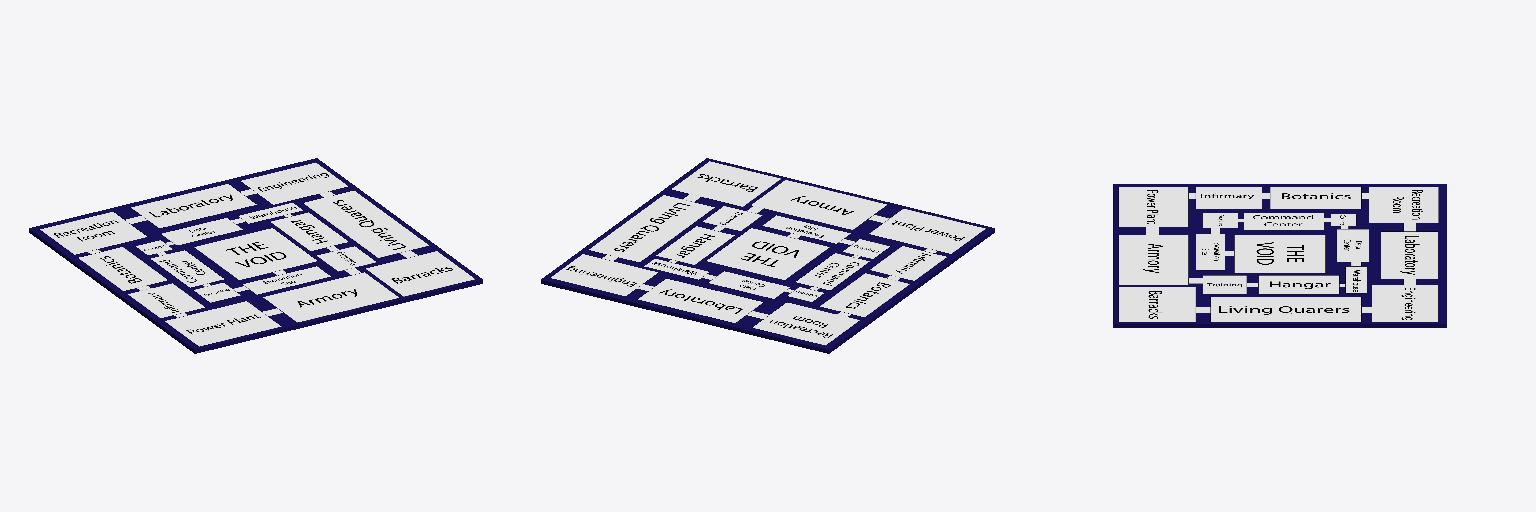
3 views of the same model, side by side, from view 1: azimuth 30°, elevation 25°; view 2: azimuth 150°, elevation 25°; view 3: azimuth 270°, elevation 25° (orthographic).
Parts seen in each view (by area): view 1: Board_Cube.001; view 2: Board_Cube.001; view 3: Board_Cube.001.
Boxes of the visible parts, x1=… form: Board_Cube.001: x1=29, y1=158, x2=482, y2=353; Board_Cube.001: x1=541, y1=158, x2=994, y2=353; Board_Cube.001: x1=1113, y1=184, x2=1446, y2=327.
Bounding box in the file's own units: 40 × 0.5 × 40.
1 materials, 1 textured.